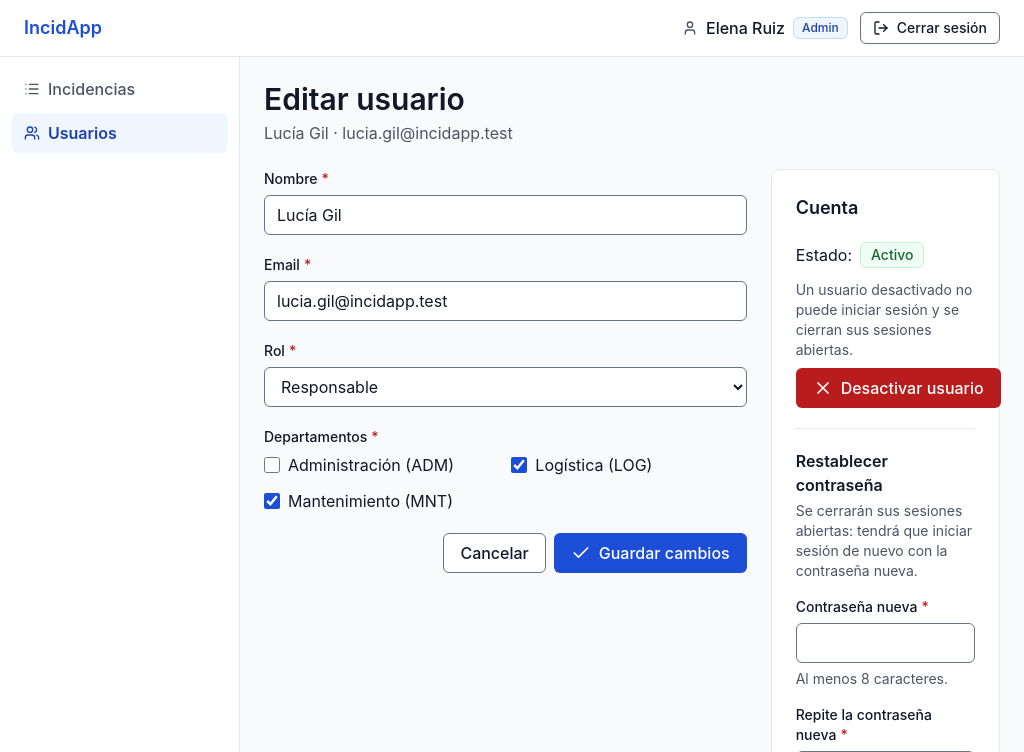
Test case: CA-02.19 · edición de usuario › al guardar envía los cambios y vuelve al listado con los datos nuevos y un aviso
Replace the text in the field labelled "Nombre*" with "Lucía Gil Pérez": (505,215) [264,195,747,235]
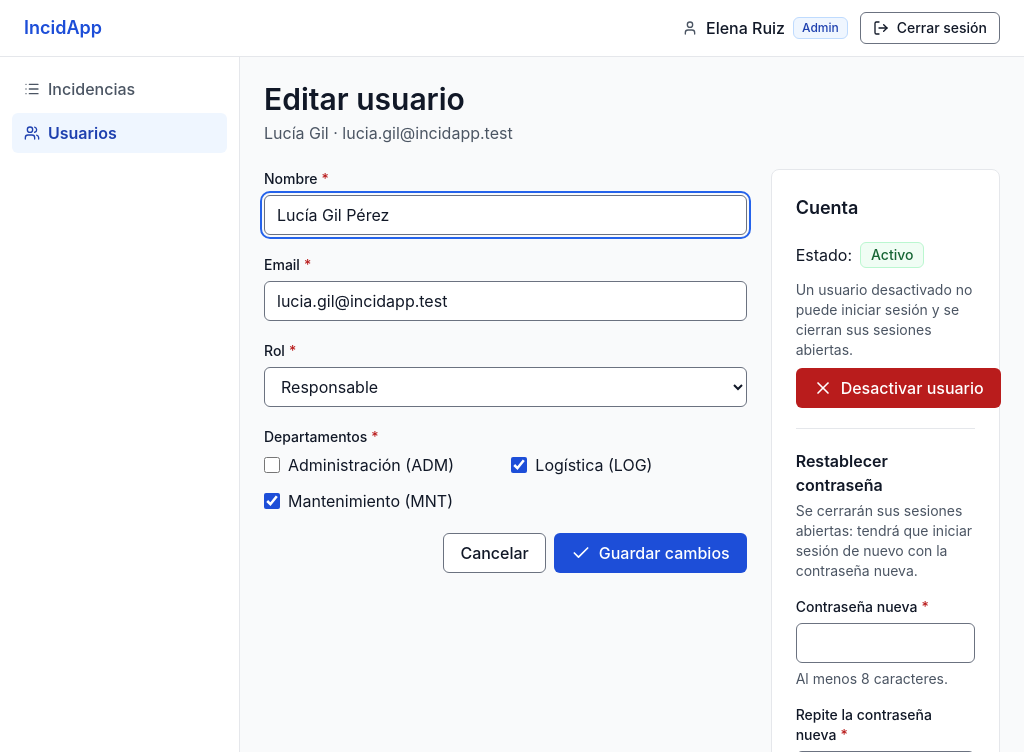
Click the button "Guardar cambios": (650,553) [554,533,747,573]
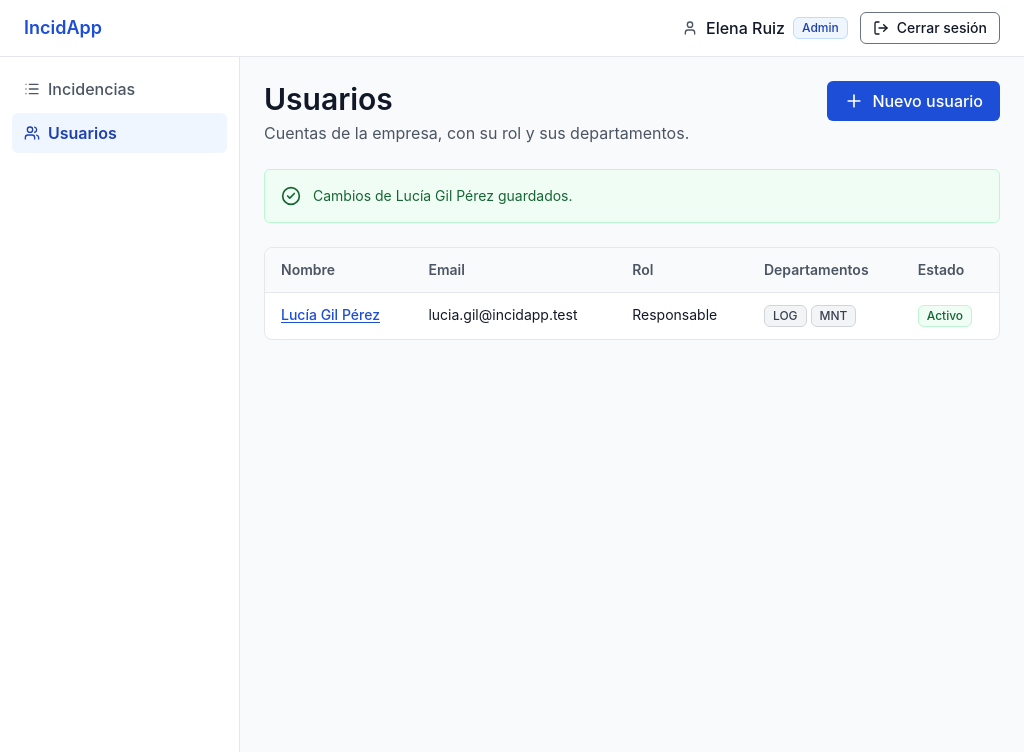
Check: the text "Cambios de Lucía Gil Pérez guardados." is shown, box [313,186,572,206]
Check: the link "Lucía Gil Pérez" is shown, box [281,306,380,323]
